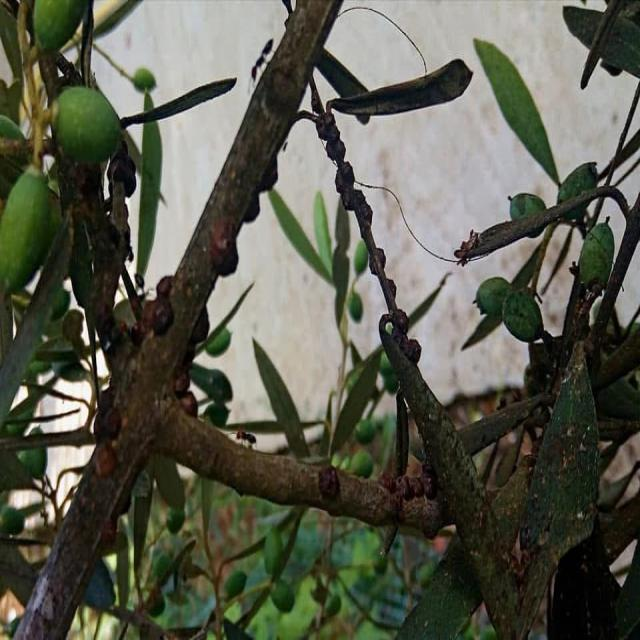Black Scale: (313, 110, 421, 368), (97, 275, 174, 359), (174, 300, 209, 414), (91, 382, 122, 476), (240, 151, 277, 227), (378, 464, 437, 508), (105, 140, 137, 210), (215, 230, 238, 279), (318, 465, 341, 506)
